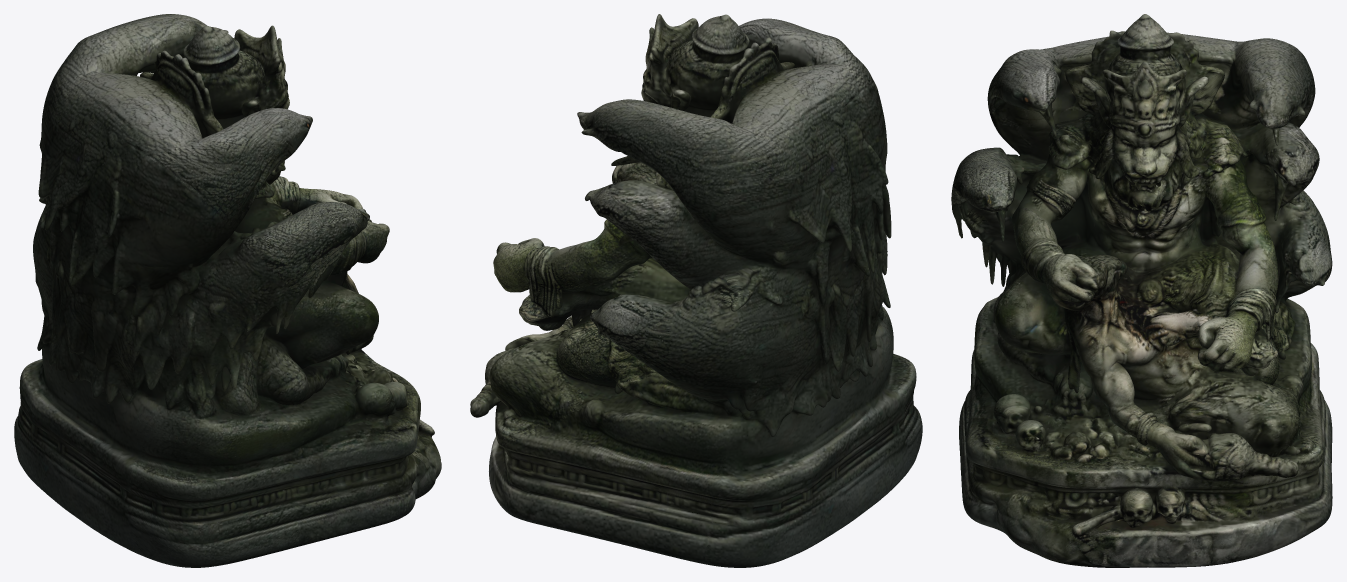
The model's file is tripo_convert_d8d87ee7-2f4f-4689-9a28-5d18f1c39d02.fbx.
The picture shows the model from 3 angles, left to right: view 1: azimuth 30°, elevation 25°; view 2: azimuth 150°, elevation 25°; view 3: azimuth 270°, elevation 25°; orthographic projection. The views are drawn at different scales.
Visible parts, largest first — view 1: tripo_node_d8d87ee7; view 2: tripo_node_d8d87ee7; view 3: tripo_node_d8d87ee7.
Part boxes in pixels (left/top/right/bottom): tripo_node_d8d87ee7: left=14, top=14, right=441, bottom=567; tripo_node_d8d87ee7: left=470, top=14, right=922, bottom=567; tripo_node_d8d87ee7: left=951, top=14, right=1332, bottom=567.
Bounding box in the file's own units: 0.7582 × 1 × 0.7476.
1 material, 1 textured.
